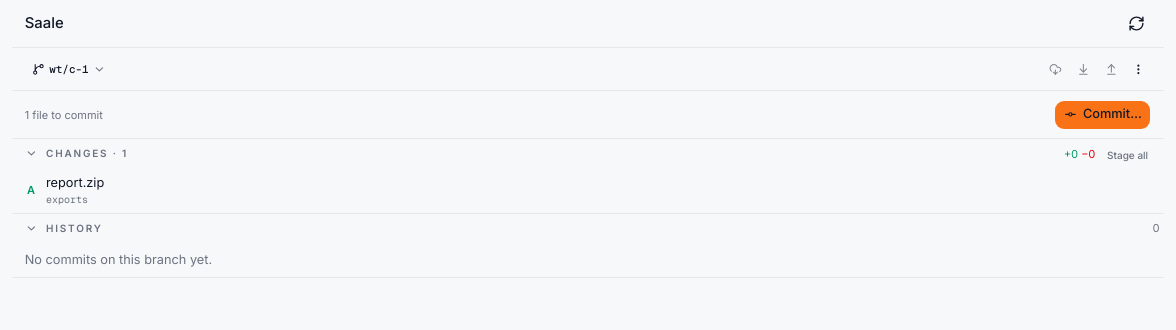
Test: ChangesView: a file's diff › says a binary file has no text to show
Click the button titled "exports/report.zip" at (75, 182), box [12,168,1102,213]
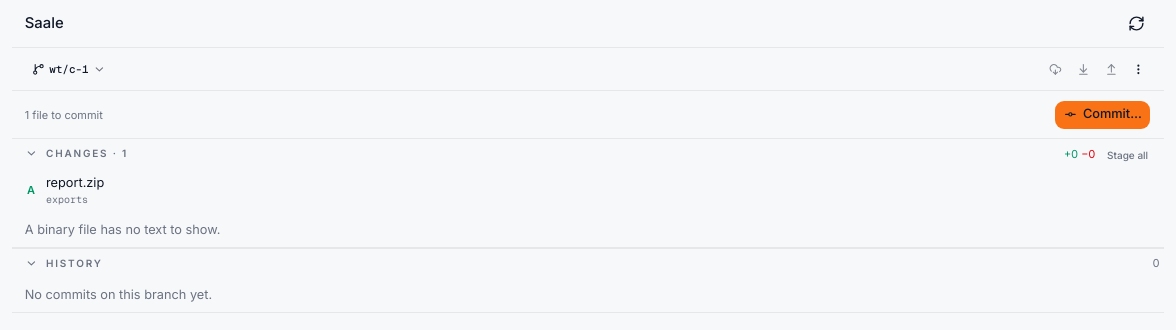
Result: the text "A binary file has no text to show." is shown at [25,222,220,237]
